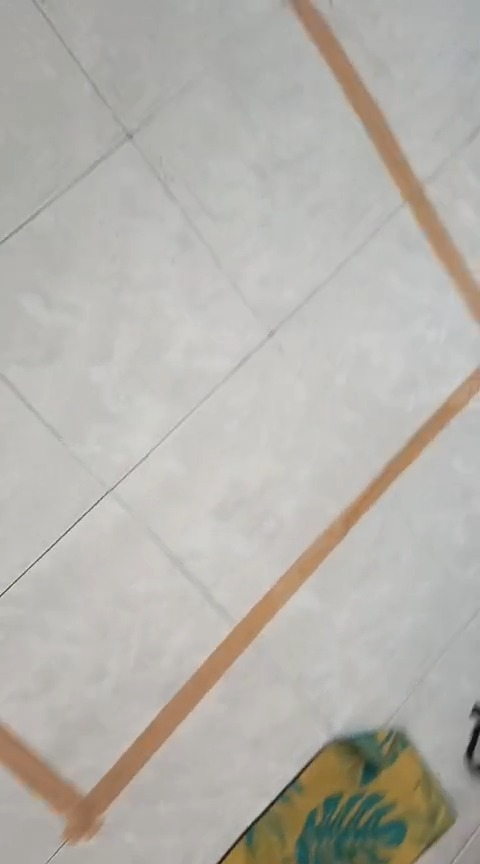floor marking: (0, 369, 479, 841), (291, 0, 479, 323)
